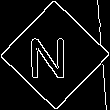N_N: (35, 29, 75, 81)
